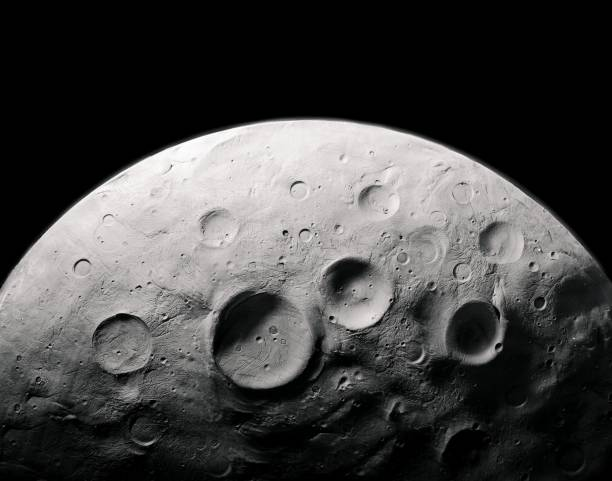crater: (213, 284, 318, 395), (320, 256, 391, 333), (93, 313, 155, 378), (445, 302, 506, 362)
